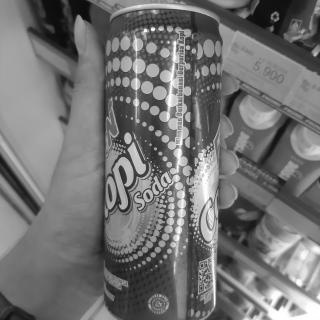alumunium_can: (91, 0, 222, 319)
